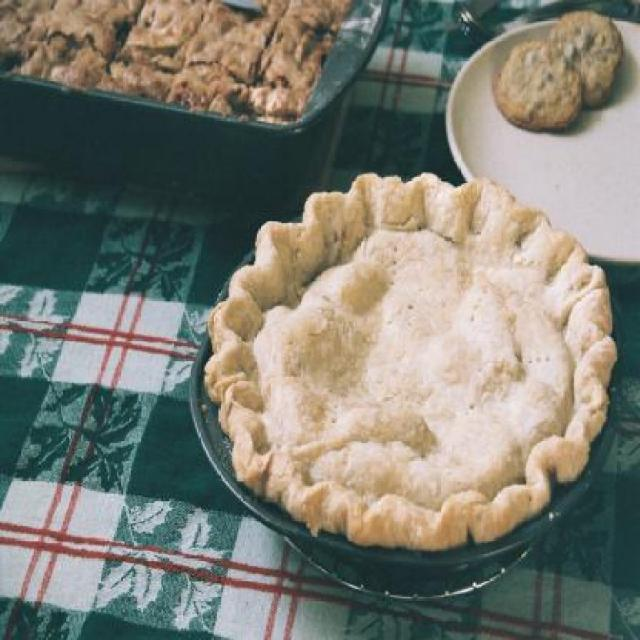Cookie: (492, 36, 582, 135), (549, 7, 623, 108)
